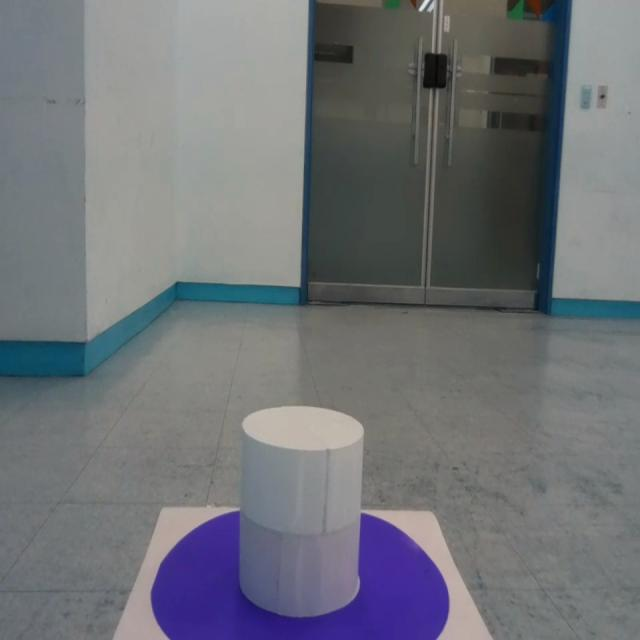cylinder: (238, 406, 366, 617)
